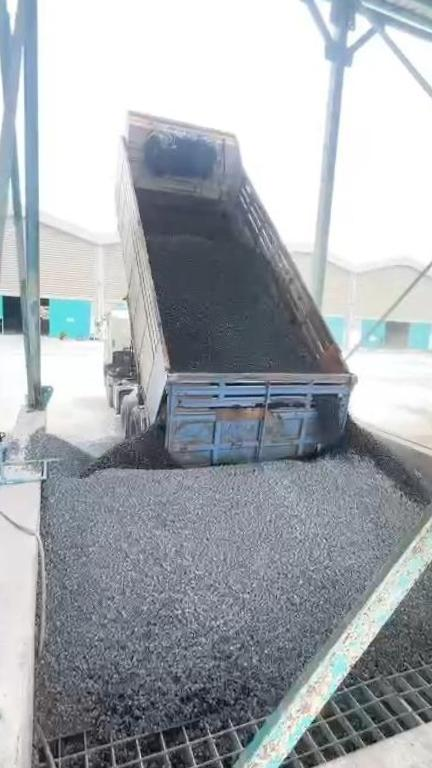gravel: (24, 416, 432, 734), (142, 203, 313, 371), (366, 521, 432, 674)
sand: (403, 400, 432, 462)
